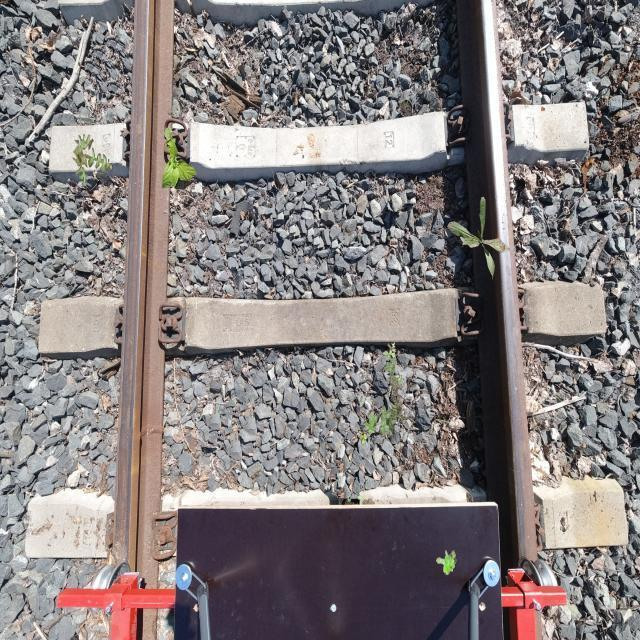Plant: (447, 197, 511, 281), (358, 342, 406, 446), (72, 134, 114, 188), (162, 127, 198, 190), (436, 550, 456, 575)
